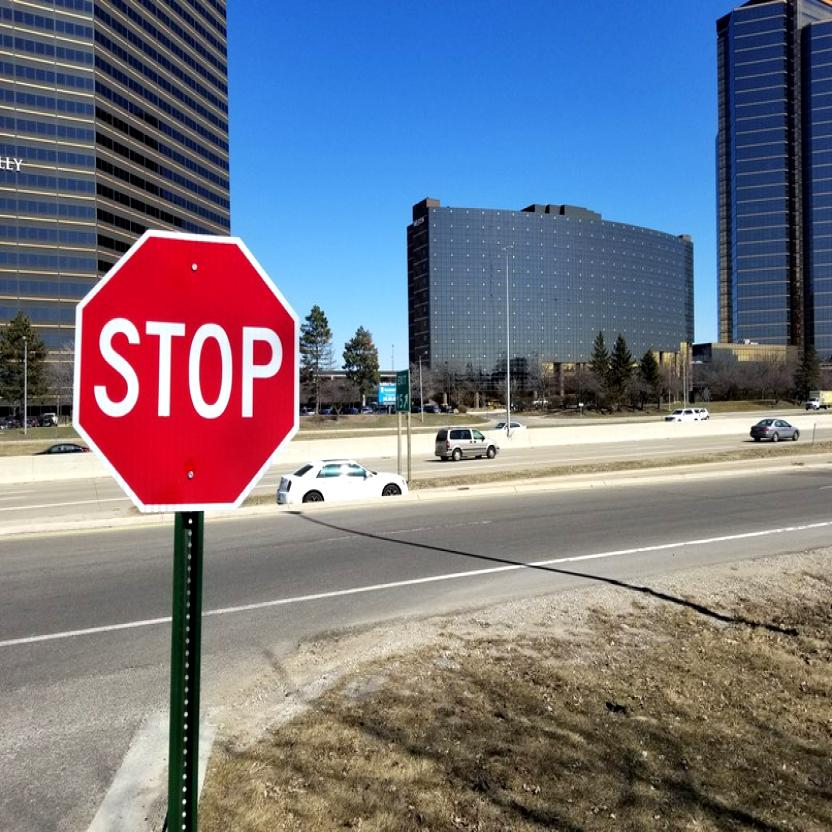Pole: (166, 515, 205, 824)
Sign: (72, 233, 300, 505)
